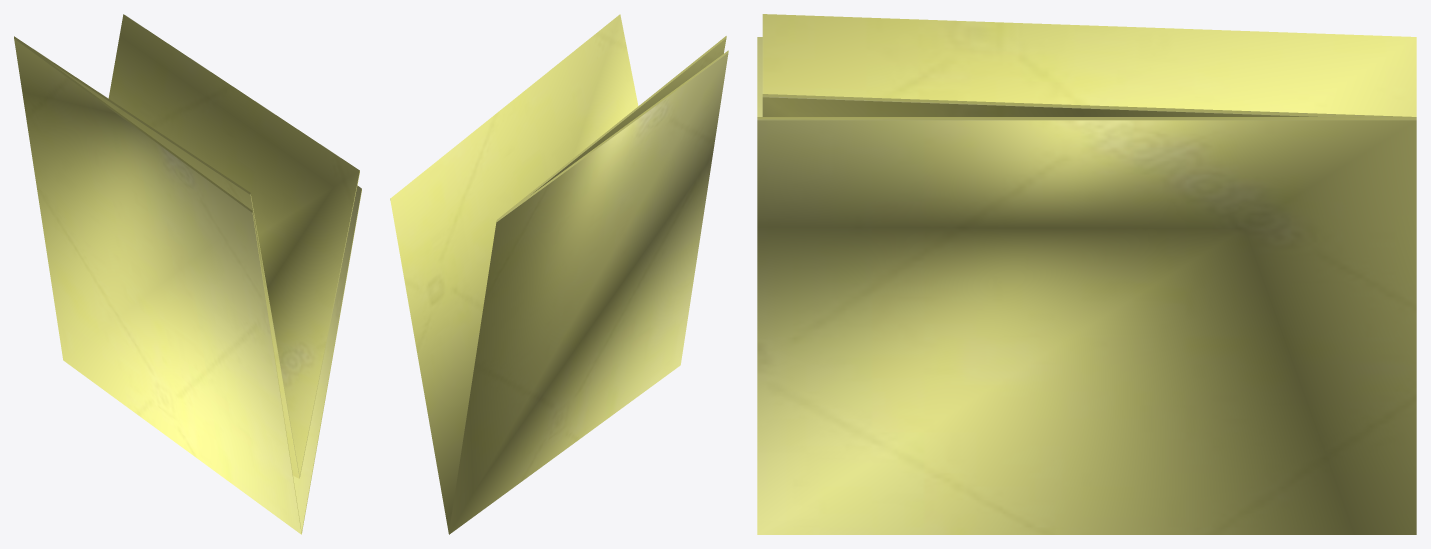
File: 小紙條-2.fbx
3 renders of one model, left to right at view 1: azimuth 30°, elevation 25°; view 2: azimuth 150°, elevation 25°; view 3: azimuth 270°, elevation 25°, orthographic. The views are drawn at different scales.
Parts seen in each view (by area): view 1: Box001; view 2: Box001; view 3: Box001.
Boxes of the visible parts, bbox=[...] form: Box001: bbox=[14, 14, 361, 534]; Box001: bbox=[390, 14, 728, 534]; Box001: bbox=[757, 14, 1416, 534].
Bounding box in the file's own units: 0.4787 × 1.48 × 1.81.
Materials: 1 (1 with a texture image).
